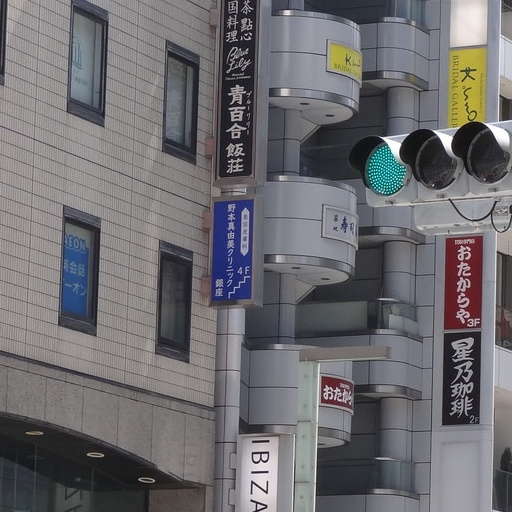Traffic_Signal_Blue: (352, 128, 506, 193)
